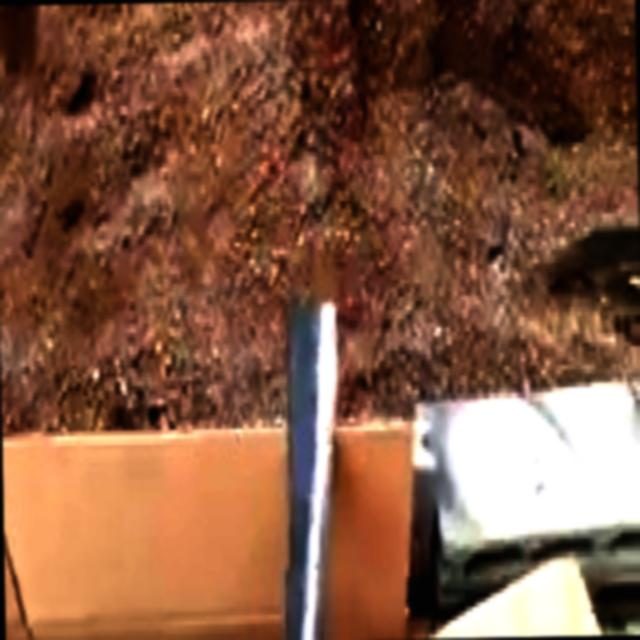eto: (288, 297, 332, 637)
